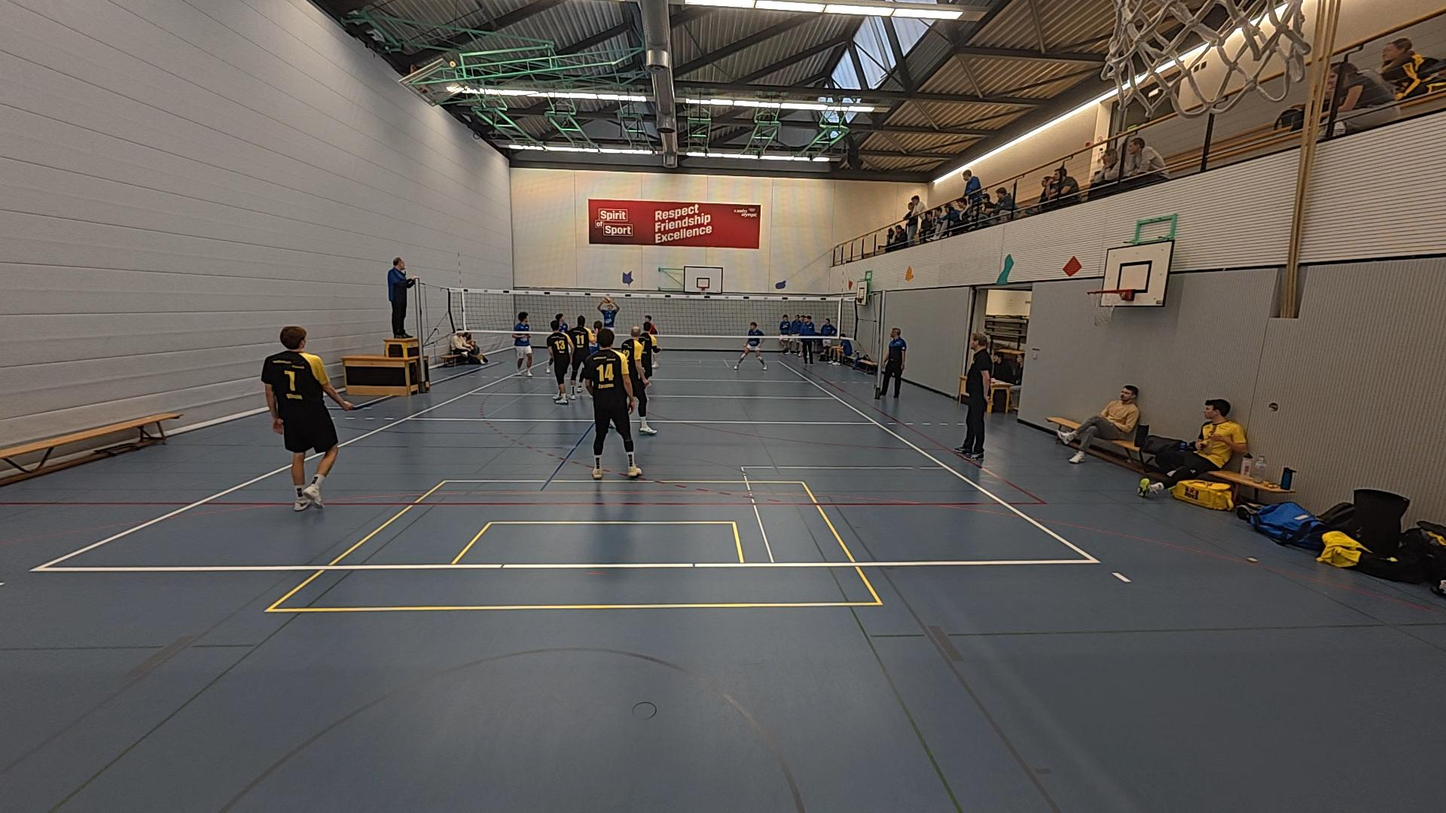Player: (262, 325, 362, 510), (583, 331, 642, 479), (622, 323, 657, 436), (560, 314, 596, 402), (543, 319, 574, 406), (512, 312, 540, 382), (541, 311, 571, 375), (732, 319, 767, 369), (641, 317, 662, 383)
Receive: (597, 296, 621, 333)
ball: (602, 296, 611, 303)
